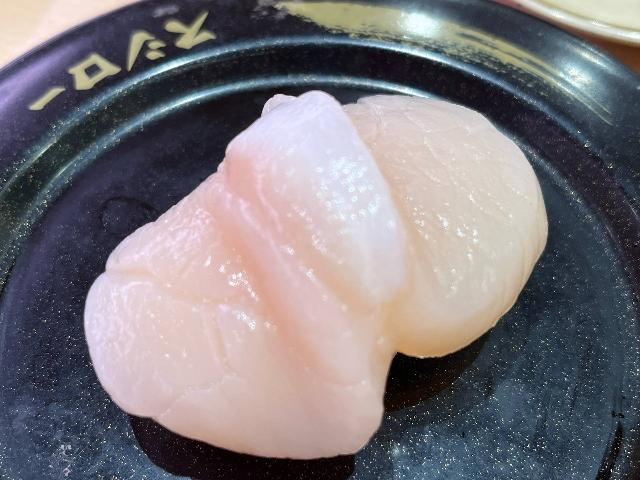janwhite: (0, 25, 640, 480)
